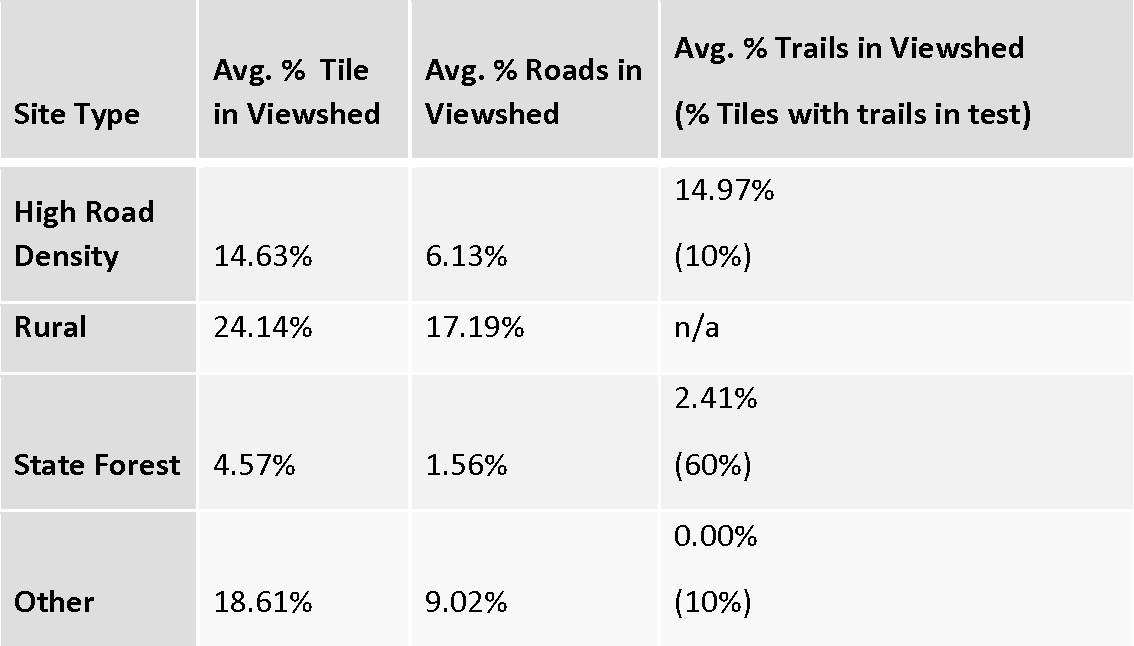fracking table: (3, 1, 1133, 644)
